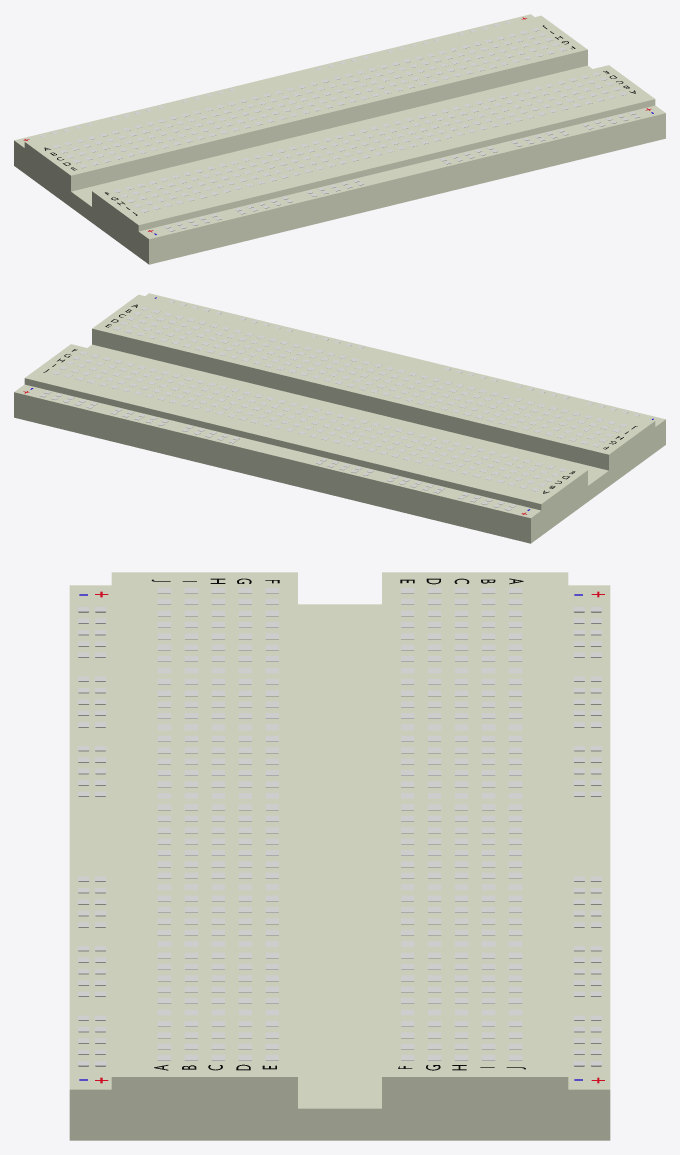
Rendered from Breadboard.dae.
3 renders of one model, top to bottom at view 1: azimuth 30°, elevation 25°; view 2: azimuth 150°, elevation 25°; view 3: azimuth 270°, elevation 25°, orthographic. The views are drawn at different scales.
Visible parts, largest first — view 1: QuarterBoard.001; view 2: QuarterBoard.001; view 3: QuarterBoard.001.
Part boxes in pixels (bbox=[...]): QuarterBoard.001: bbox=[14, 14, 665, 264]; QuarterBoard.001: bbox=[14, 293, 665, 543]; QuarterBoard.001: bbox=[69, 572, 610, 1140].
Size of the model in its own units: 34 by 15.4 by 2.01.
